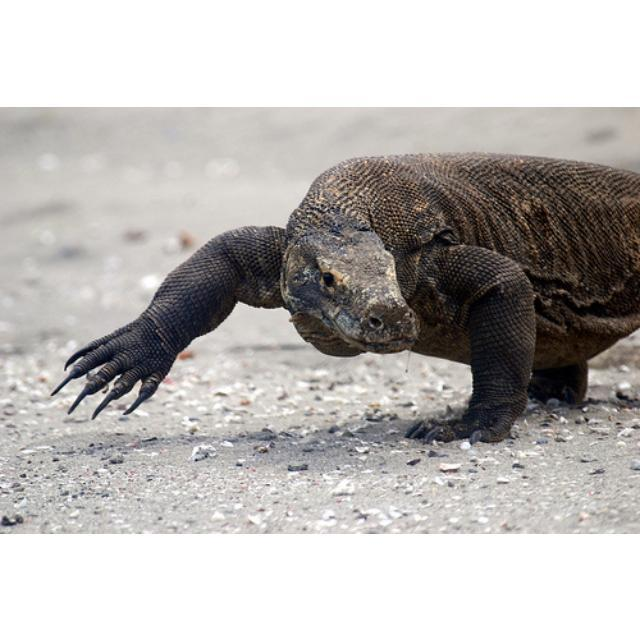KomodoDragon: (47, 146, 638, 445)
